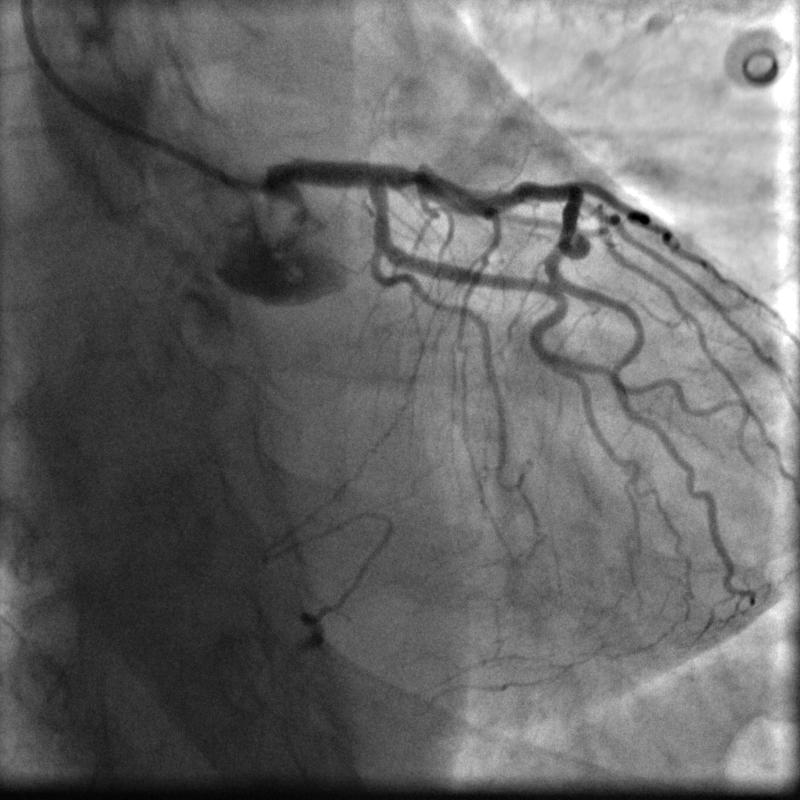Stenosis: (397, 161, 426, 193)
